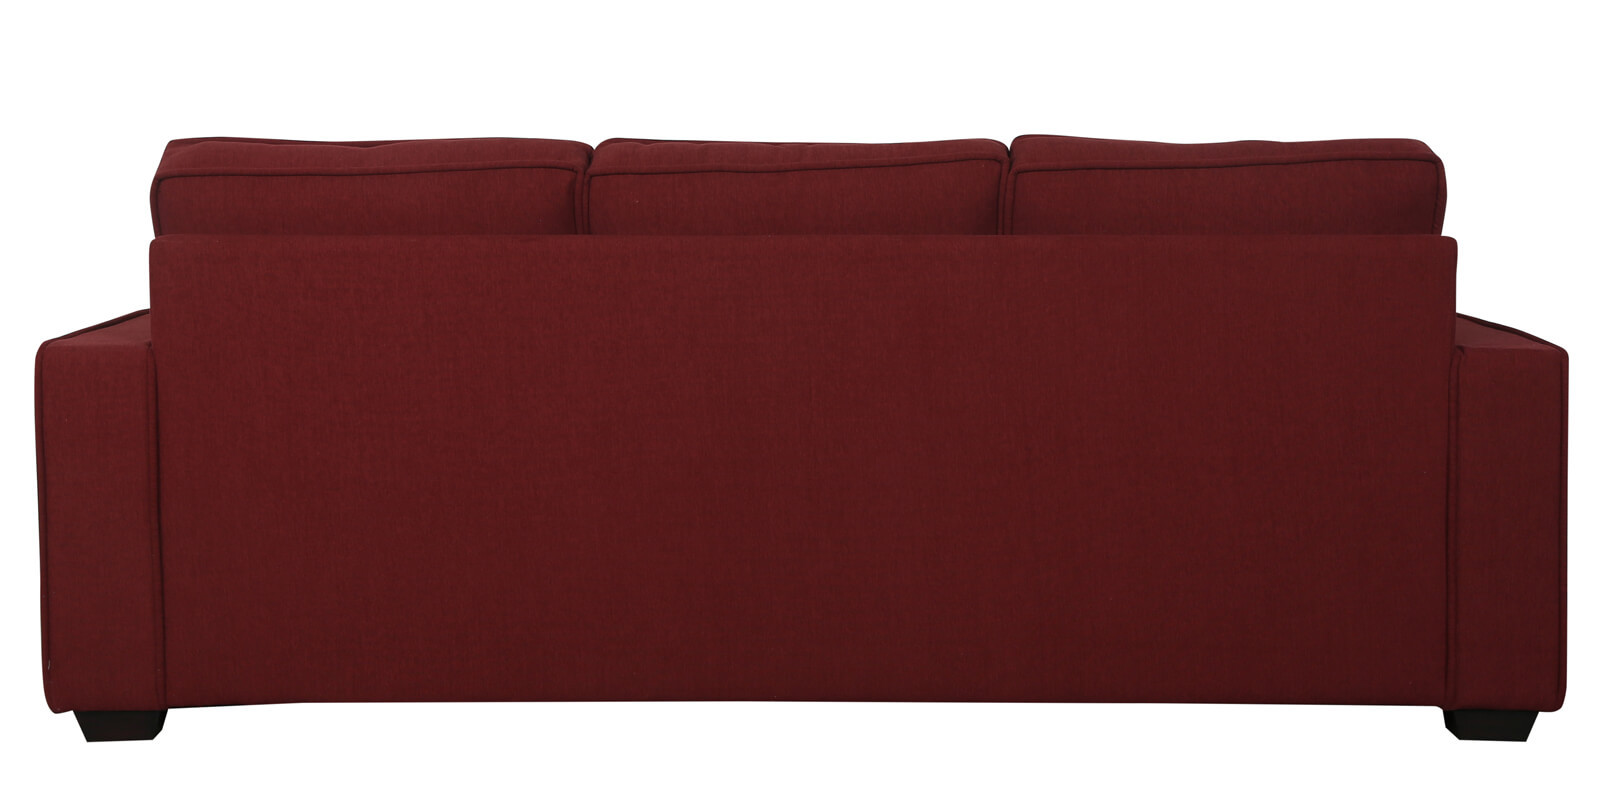Hugo Three Seater Sofa in Garnet Red Colour by CasaCraft: (31, 124, 1600, 766)
